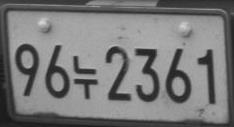1: (195, 48, 223, 104)
2: (105, 45, 132, 100)
3: (135, 47, 160, 102)
6: (164, 47, 192, 103), (44, 44, 71, 99)
9: (14, 42, 39, 97)
누: (72, 54, 98, 99)
